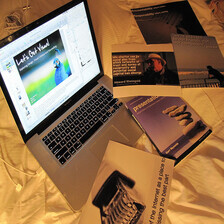laptop: (1, 1, 163, 206)
